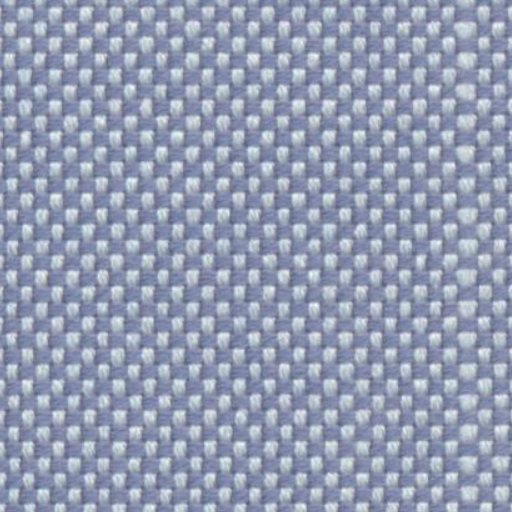TuoSha: (440, 14, 496, 504)
